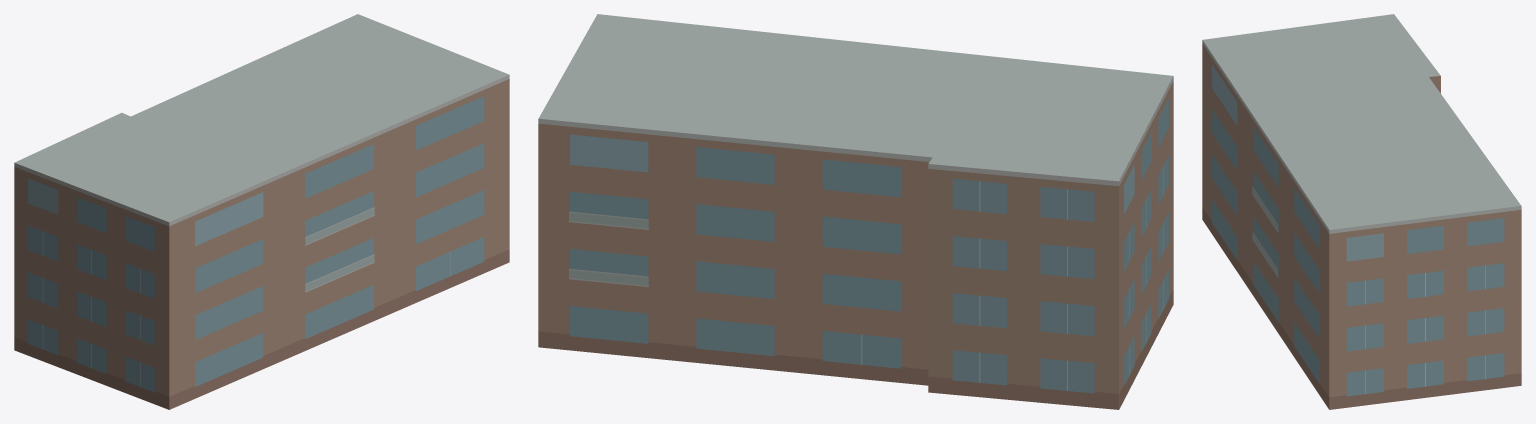
The model's file is survey-upis-32863962.glb.
3 renders of one model, left to right at view 1: azimuth 30°, elevation 25°; view 2: azimuth 150°, elevation 25°; view 3: azimuth 270°, elevation 25°, orthographic. The views are drawn at different scales.
Parts seen in each view (by area): view 1: survey-upis-32863962.tmp; view 2: survey-upis-32863962.tmp; view 3: survey-upis-32863962.tmp.
Boxes of the visible parts, left/top/right/bottom form: survey-upis-32863962.tmp: left=14, top=14, right=509, bottom=409; survey-upis-32863962.tmp: left=538, top=14, right=1173, bottom=409; survey-upis-32863962.tmp: left=1202, top=14, right=1521, bottom=409.
Bounding box in the file's own units: 29.38 × 11.4 × 18.34.
